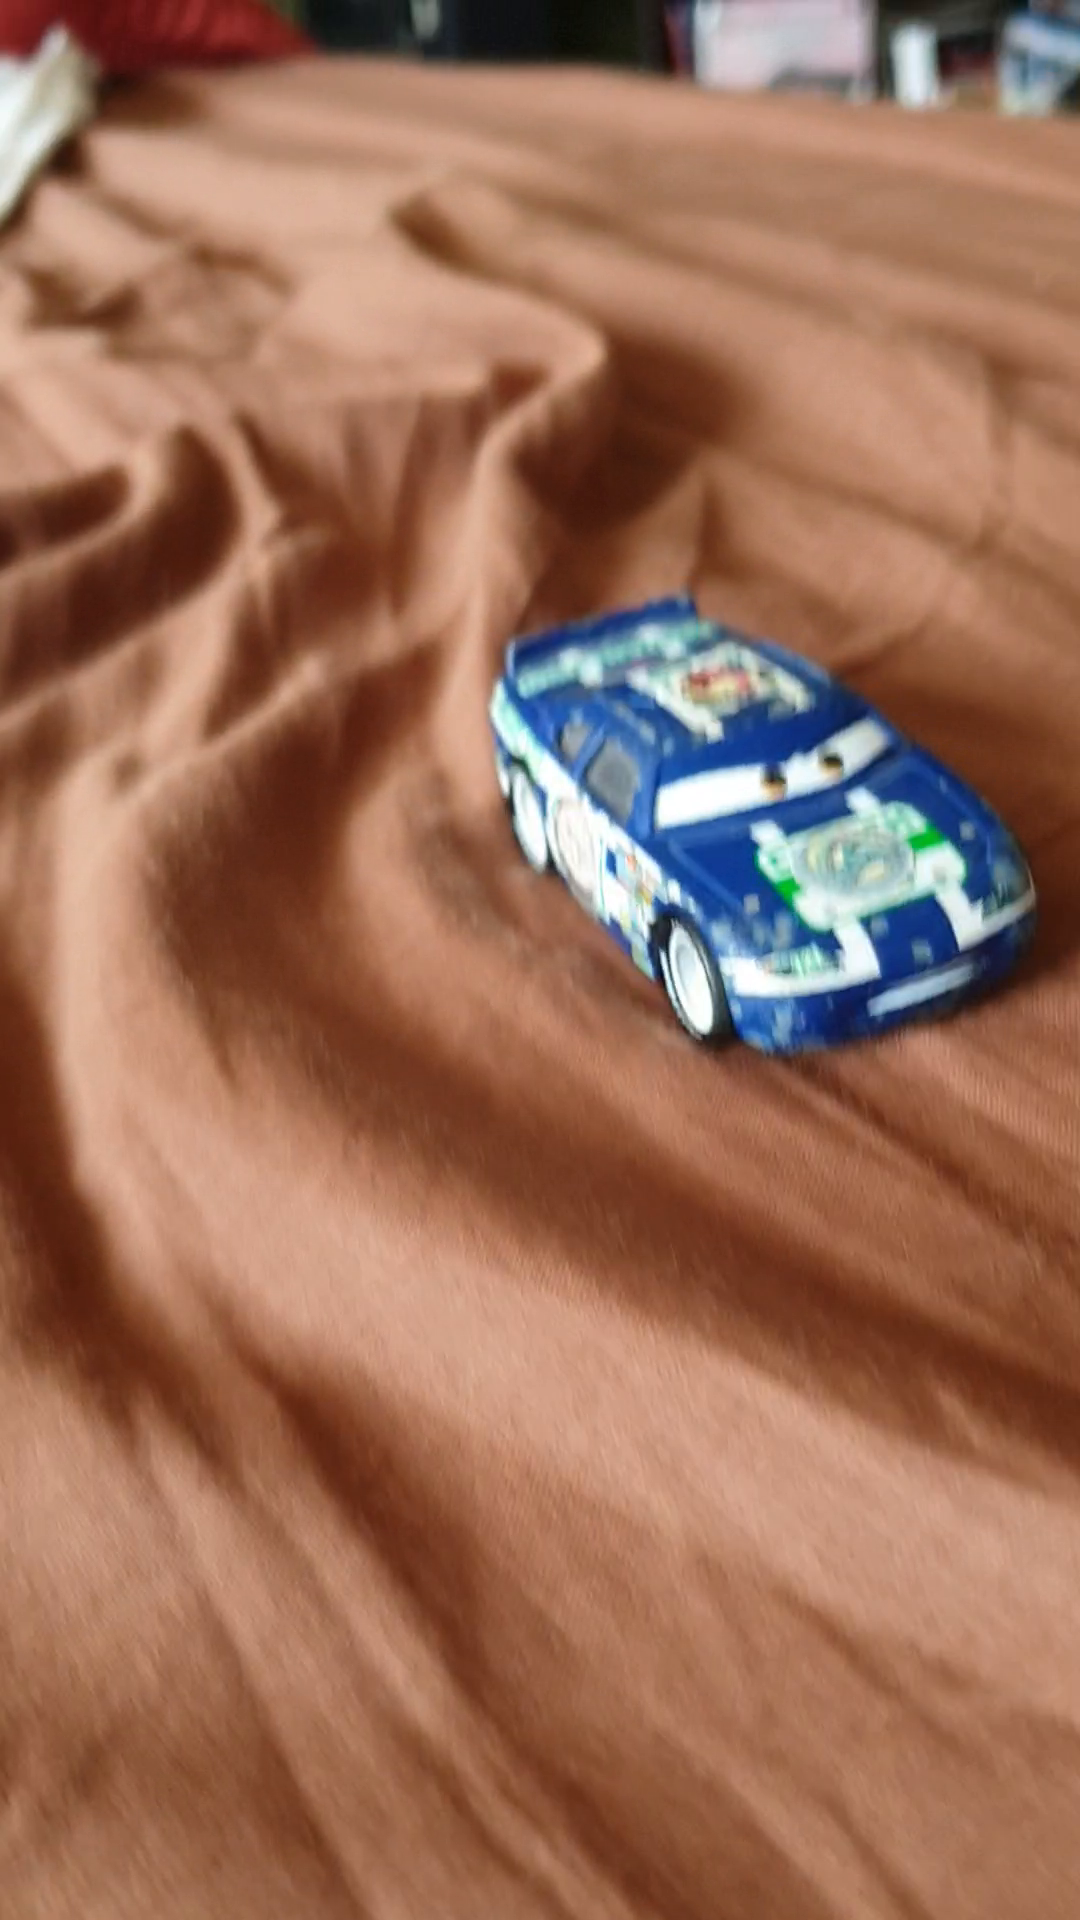cars: (485, 597, 1054, 1064)
